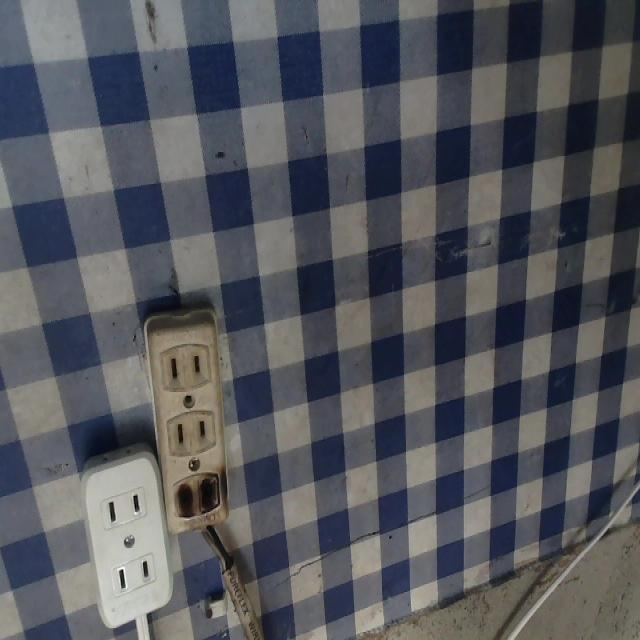-: (166, 468, 239, 521)
